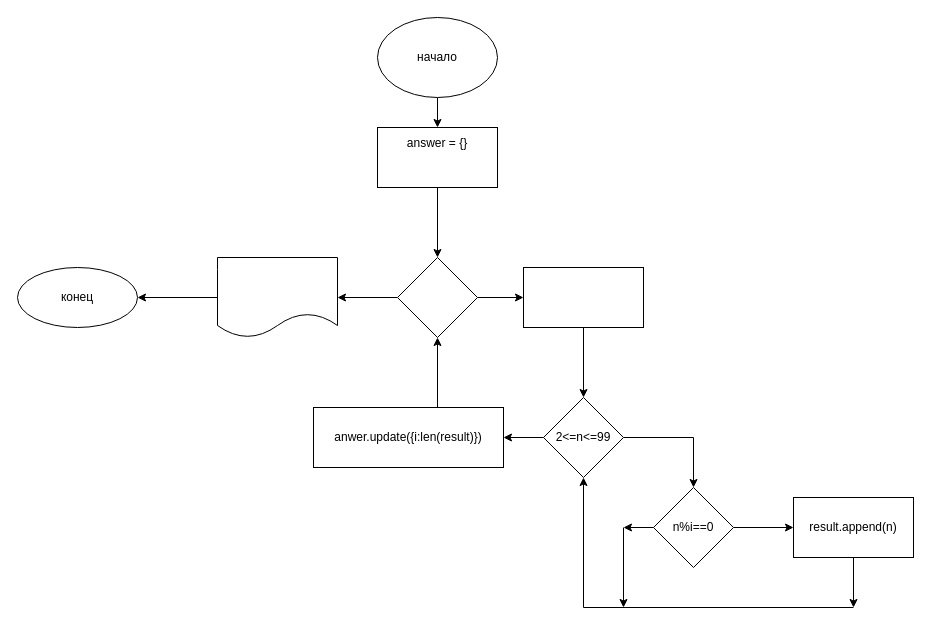
The diagram is 931 pixels wide and 633 high, and some of its shapes have lost their labels. The box of each missing label's shape, as (x1, y1, x2, y2) in pixels:
2<=i<=9: (396, 256, 478, 338)
answer: (216, 256, 338, 338)
result = []: (522, 266, 644, 328)
